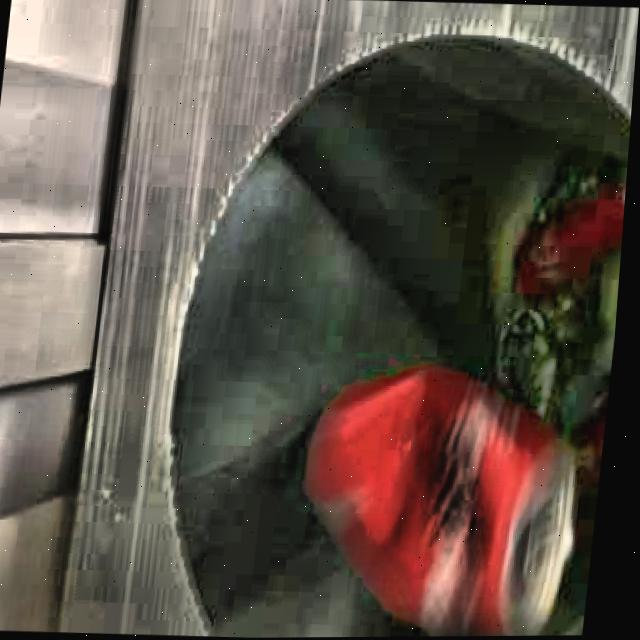metal: (318, 370, 585, 637)
